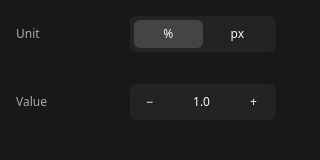
Scenario: UnitValue › Switch từ px sang % và value > 100 thì update về 100
Click the button "px": {"x": 237, "y": 34} [202, 20, 272, 48]
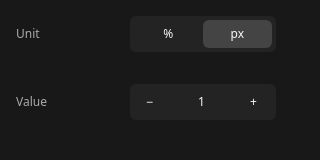
Replace the text in the field with "150": {"x": 202, "y": 102} [169, 84, 234, 120]
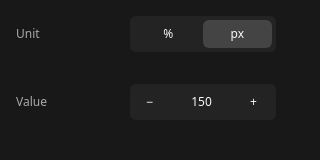
Click the button "%": {"x": 168, "y": 34} [134, 20, 202, 48]
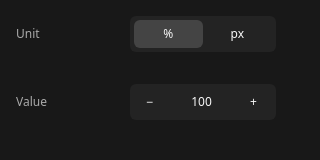
Check: the field holds "100", box [169, 84, 234, 120]
